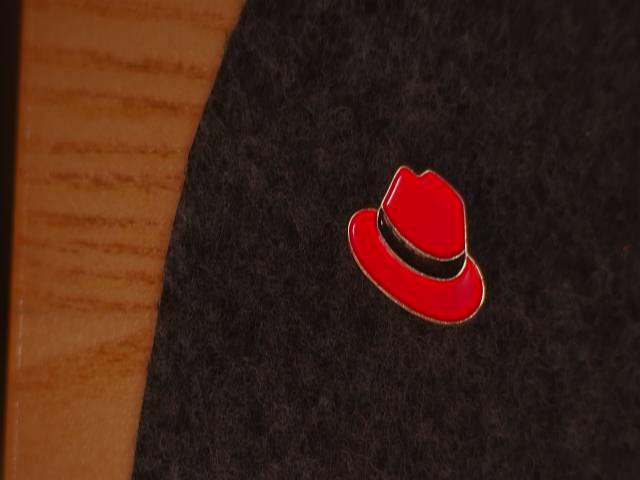Red-Hat: (315, 134, 507, 358)
